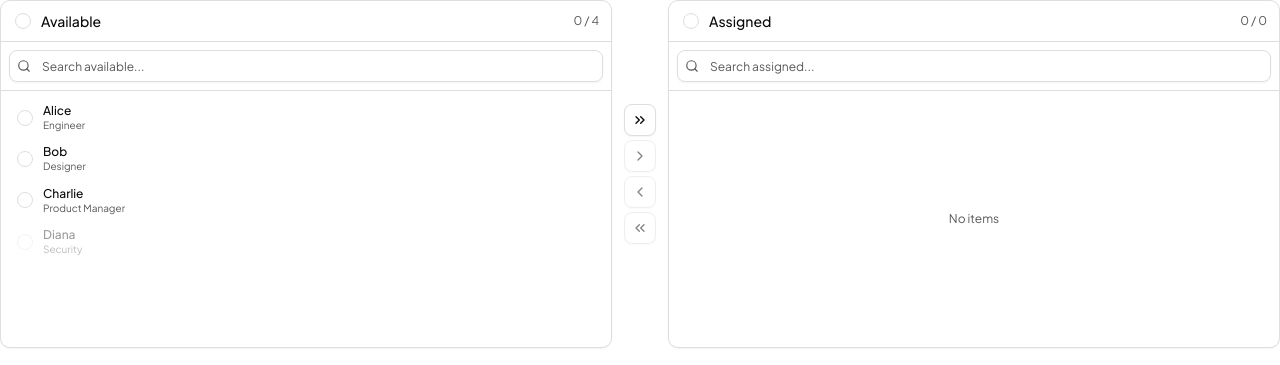
TransferList › filters items when searchable is true
Type "Alice" into the field with placeholder "Search available...".
click(306, 66); type("Alice")  # box [9,50,603,82]
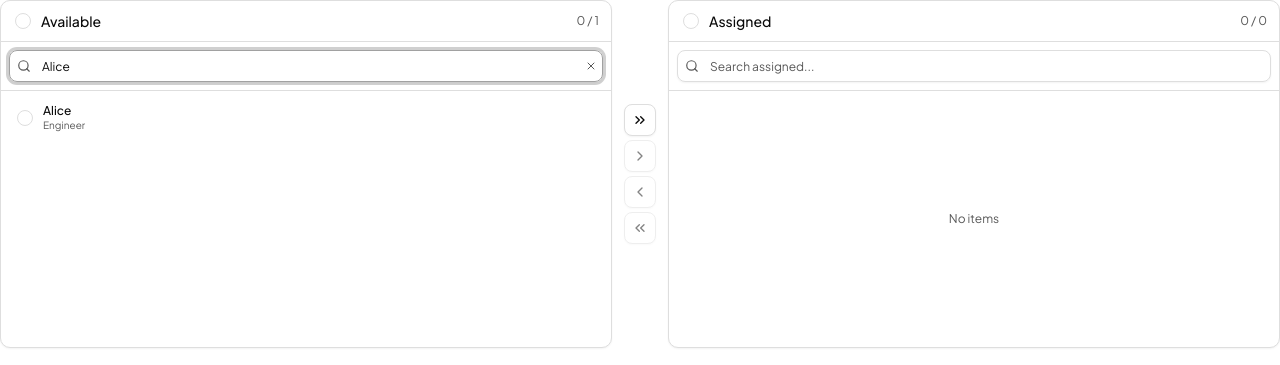
Check: the text "Alice" is shown, box [43,103,71,118]
Check: the option "Bob" is gone
Click the button named "Clear search Available".
click(591, 66)  # box [585,60,597,72]
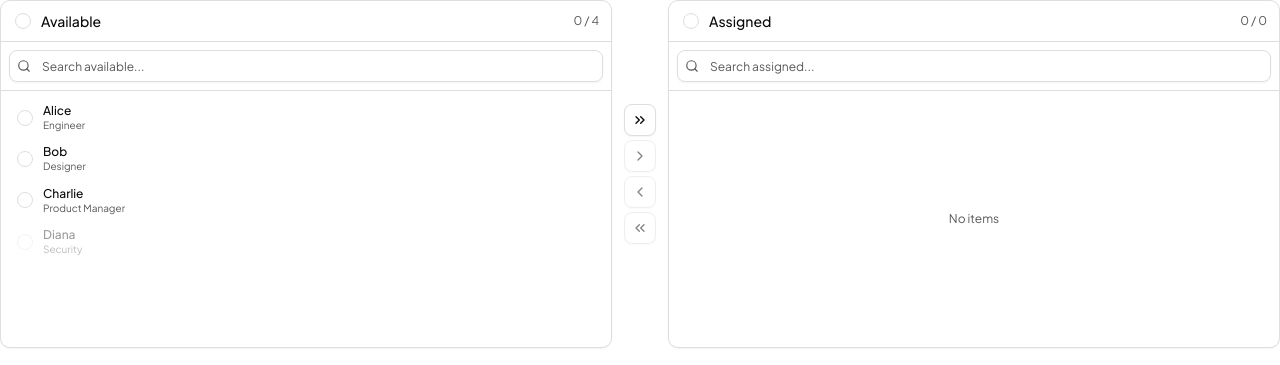
Check: the text "Bob" is shown, box [43,144,67,159]
